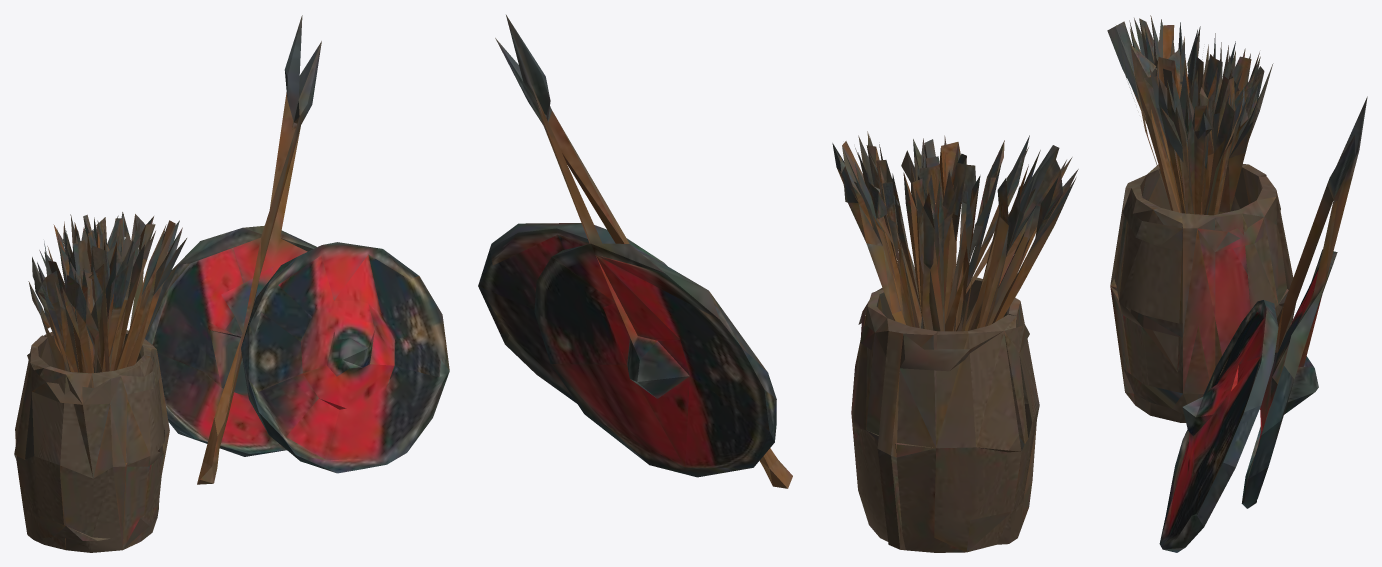
File: gwana_arms.glb
3 renders of one model, left to right at view 1: azimuth 30°, elevation 25°; view 2: azimuth 150°, elevation 25°; view 3: azimuth 270°, elevation 25°, orthographic. The views are drawn at different scales.
Bounding box in the file's own units: 1.89 × 1.59 × 0.8169.
1 material, 1 textured.
